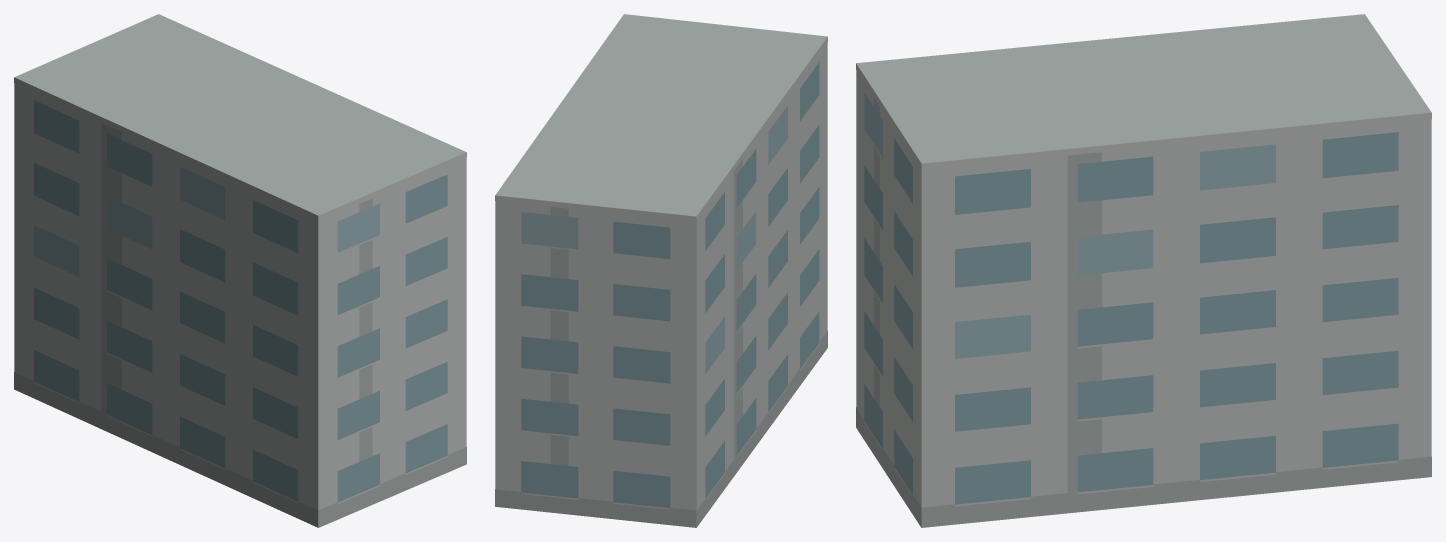
File: survey-upis-32574887.glb
3 renders of one model, left to right at view 1: azimuth 30°, elevation 25°; view 2: azimuth 150°, elevation 25°; view 3: azimuth 270°, elevation 25°, orthographic. The views are drawn at different scales.
Parts seen in each view (by area): view 1: survey-upis-32574887.tmp; view 2: survey-upis-32574887.tmp; view 3: survey-upis-32574887.tmp.
Part boxes in pixels (left/top/right/bottom): survey-upis-32574887.tmp: left=14, top=14, right=466, bottom=527; survey-upis-32574887.tmp: left=495, top=14, right=827, bottom=527; survey-upis-32574887.tmp: left=856, top=14, right=1431, bottom=527.
Size of the model in its own units: 11.99 by 13.6 by 19.49.
